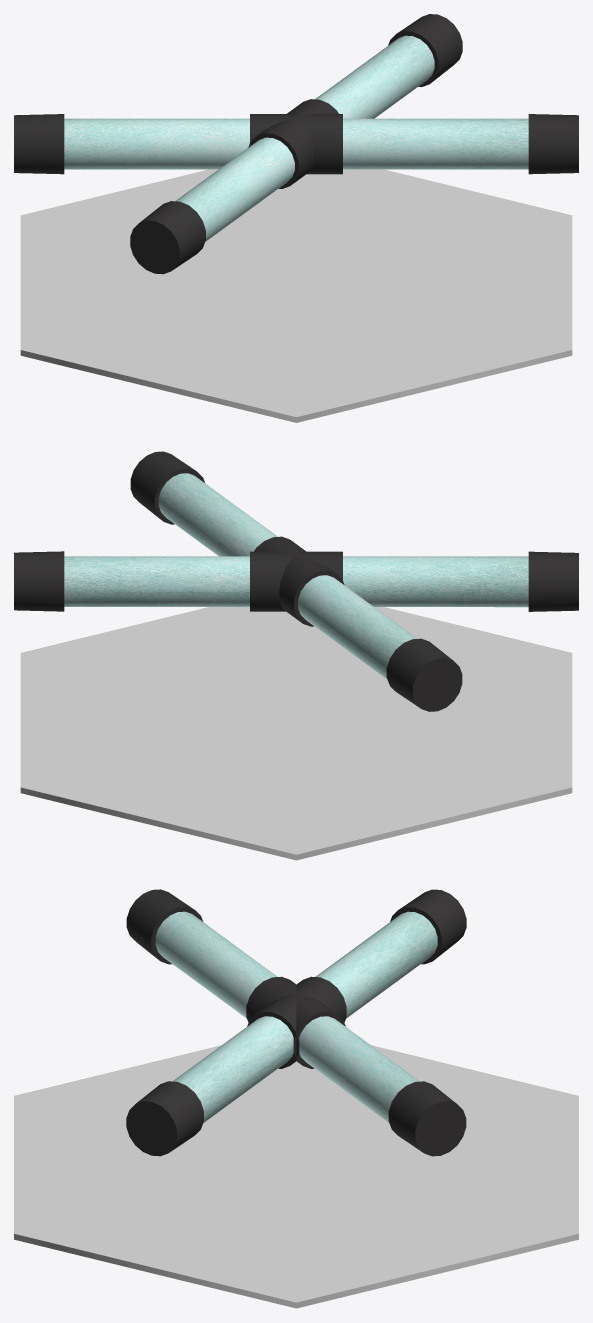
Rendered from four1.FBX.
The picture shows the model from 3 angles, top to bottom: view 1: azimuth 30°, elevation 25°; view 2: azimuth 150°, elevation 25°; view 3: azimuth 270°, elevation 25°; orthographic projection. The views are drawn at different scales.
Parts seen in each view (by area): view 1: Cylinder004, Cylinder003, Cylinder009; view 2: Cylinder004, Cylinder009, Cylinder003; view 3: Cylinder004, Cylinder003, Cylinder009.
Part boxes in pixels (box(x1,y1,x2,y2)): Cylinder004: box(20, 169, 572, 422); Cylinder003: box(14, 114, 578, 174); Cylinder009: box(130, 14, 462, 274); Cylinder004: box(20, 607, 572, 860); Cylinder009: box(14, 551, 578, 611); Cylinder003: box(130, 451, 462, 711); Cylinder004: box(14, 1045, 578, 1308); Cylinder003: box(126, 889, 466, 1156); Cylinder009: box(126, 889, 466, 1156).
Size of the model in its own units: 100 by 29.75 by 86.6.
2 materials, 2 textured.
